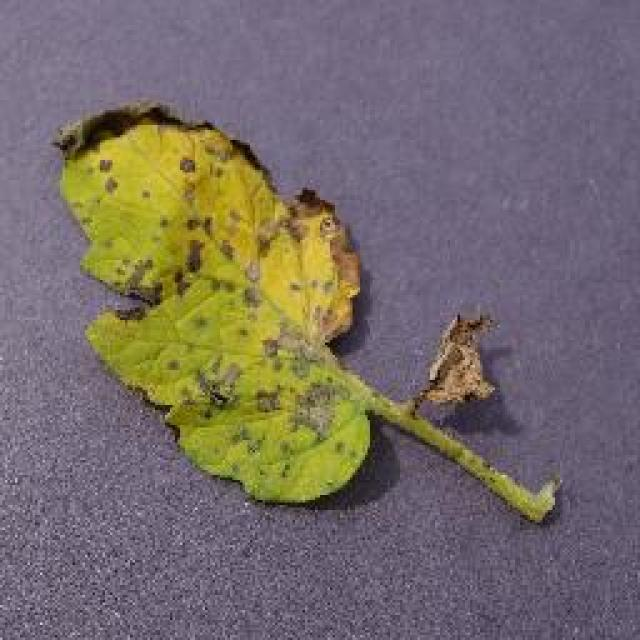Tom_Septoria_leaf_spot: (206, 186, 379, 470), (51, 114, 211, 280)
